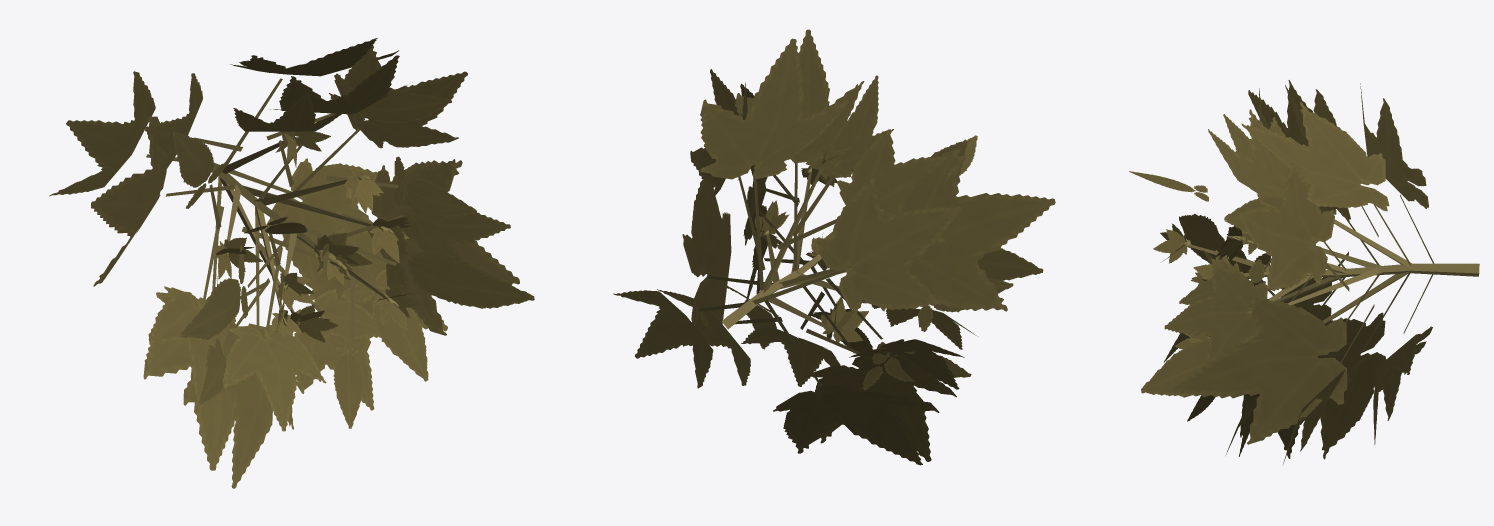
The model's file is p_afghan_preflower_c2_cards.obj.
3 renders of one model, left to right at view 1: azimuth 30°, elevation 25°; view 2: azimuth 150°, elevation 25°; view 3: azimuth 270°, elevation 25°, orthographic. The views are drawn at different scales.
Size of the model in its own units: 1.49 by 1.52 by 1.06.
Materials: 1 (1 with a texture image).
